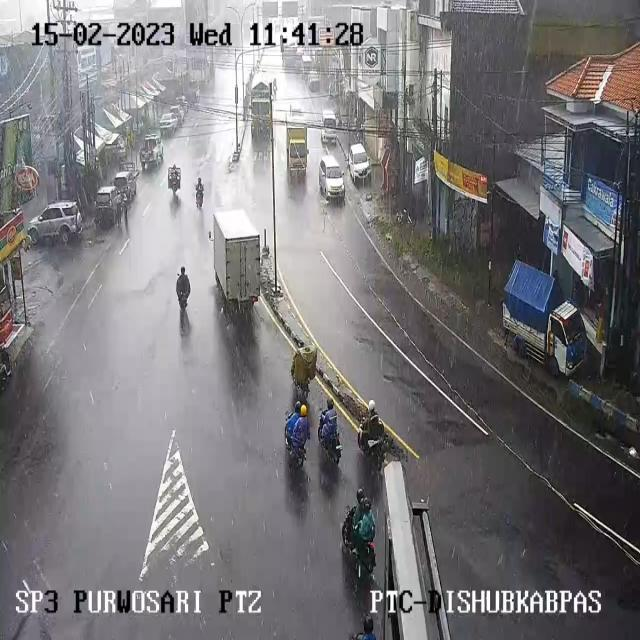Car: (28, 201, 82, 246), (93, 185, 126, 228), (318, 155, 345, 201), (348, 143, 370, 184), (112, 170, 139, 203), (139, 134, 163, 170), (321, 115, 338, 145), (307, 64, 324, 92), (158, 112, 179, 134), (112, 136, 128, 162), (270, 18, 286, 42), (169, 105, 185, 125), (300, 53, 313, 77), (188, 80, 203, 99), (183, 89, 199, 106), (176, 96, 189, 116)
Motorbike: (350, 496, 376, 570), (285, 404, 311, 465), (358, 404, 385, 461), (317, 400, 341, 462), (291, 344, 317, 394), (175, 268, 192, 313), (352, 615, 376, 640), (195, 178, 204, 206)
Truck: (502, 261, 586, 378), (210, 210, 265, 311), (249, 76, 275, 143), (286, 126, 308, 184), (282, 46, 302, 74)
